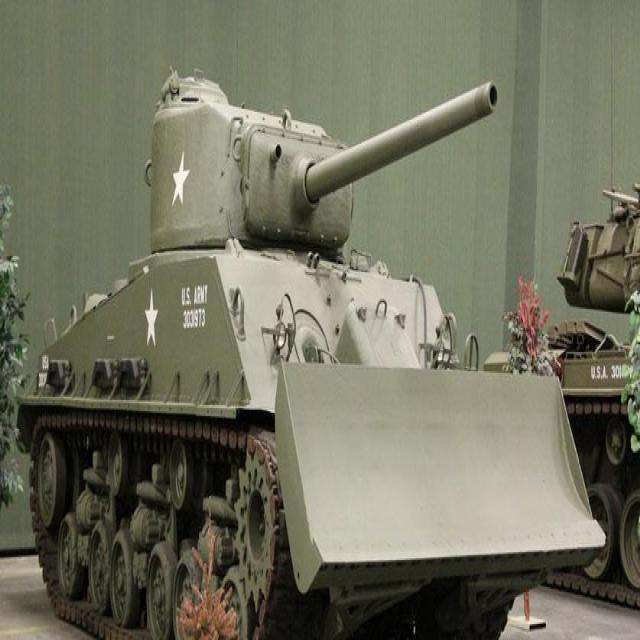Tanks: (32, 80, 568, 590)
